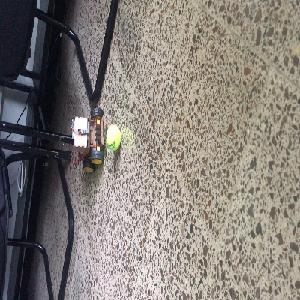Ball: (104, 125, 121, 151)
Robot: (70, 106, 103, 172)
